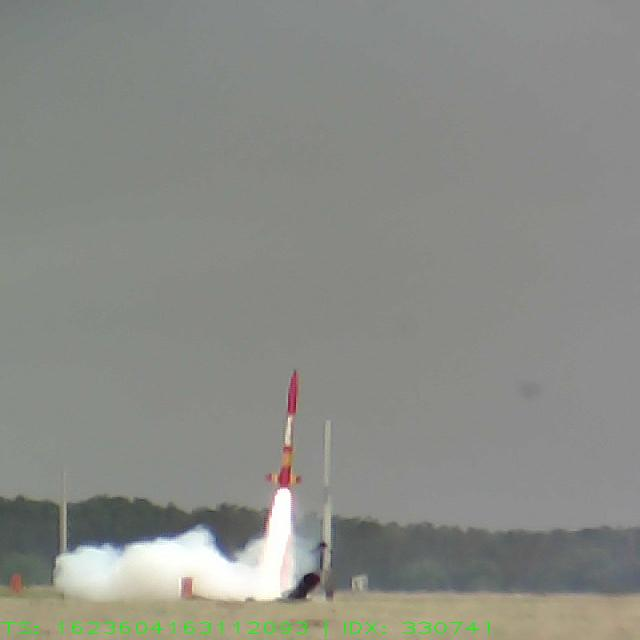Rocket: (264, 368, 304, 488)
